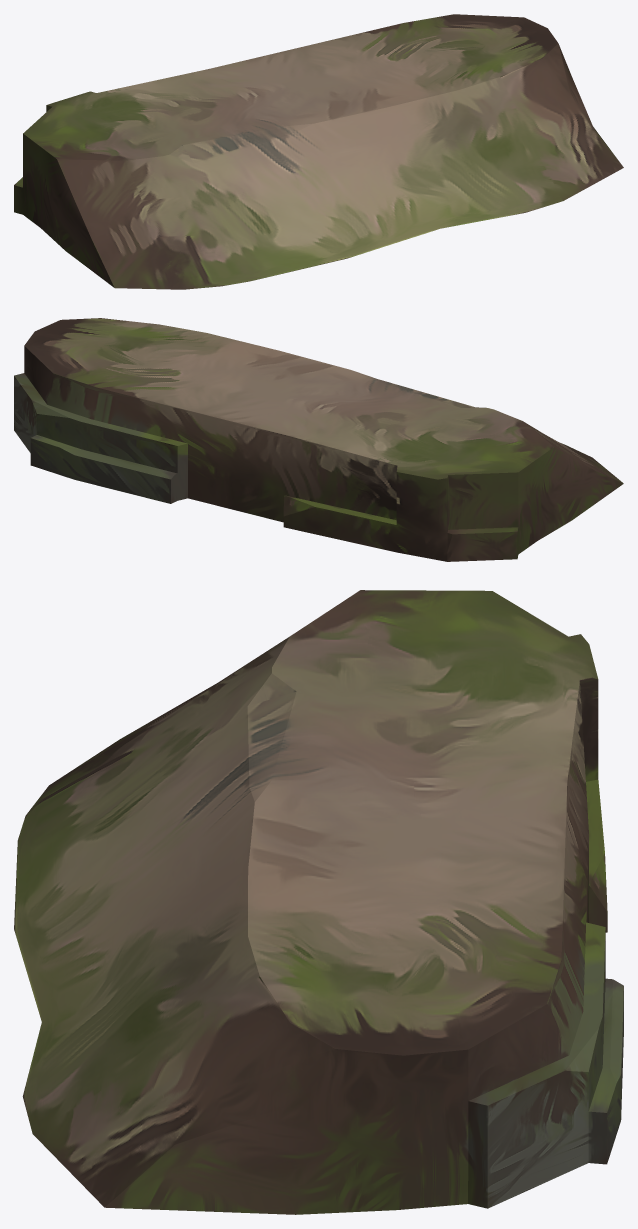
Rendered from rampa_1.obj.
3 views of the same model, one above another, from view 1: azimuth 30°, elevation 25°; view 2: azimuth 150°, elevation 25°; view 3: azimuth 270°, elevation 25° (orthographic). The views are drawn at different scales.
Visible parts, largest first — view 1: Cube.021; view 2: Cube.021; view 3: Cube.021.
Part boxes in pixels (left/top/right/bottom): Cube.021: left=14, top=14, right=623, bottom=289; Cube.021: left=14, top=318, right=623, bottom=561; Cube.021: left=14, top=590, right=623, bottom=1214.
Size of the model in its own units: 11.2 by 1.7 by 6.07.
1 material, 1 textured.
